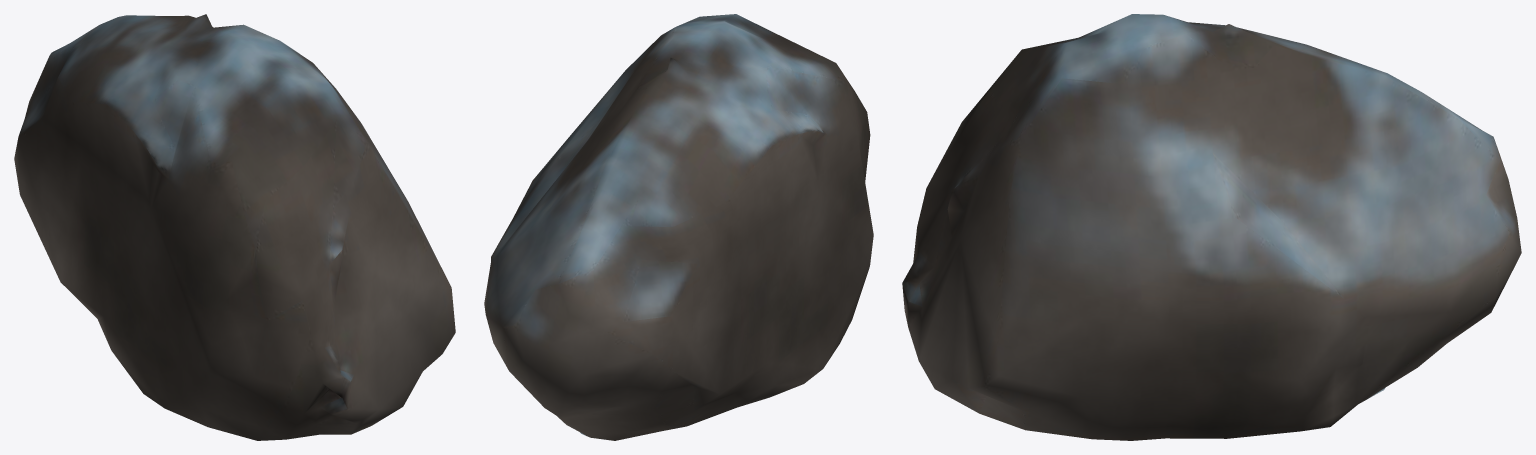
File: SM_Rock_Edge_2.glb
The picture shows the model from 3 angles, left to right: view 1: azimuth 30°, elevation 25°; view 2: azimuth 150°, elevation 25°; view 3: azimuth 270°, elevation 25°; orthographic projection. The views are drawn at different scales.
Visible parts, largest first — view 1: SM_Rock_Edge_2; view 2: SM_Rock_Edge_2; view 3: SM_Rock_Edge_2.
Boxes of the visible parts, <box> form: SM_Rock_Edge_2: <box>14,14,455,440</box>; SM_Rock_Edge_2: <box>484,14,873,440</box>; SM_Rock_Edge_2: <box>902,14,1521,440</box>.
Size of the model in its own units: 0.5008 by 0.638 by 0.992.
1 material, 1 textured.
